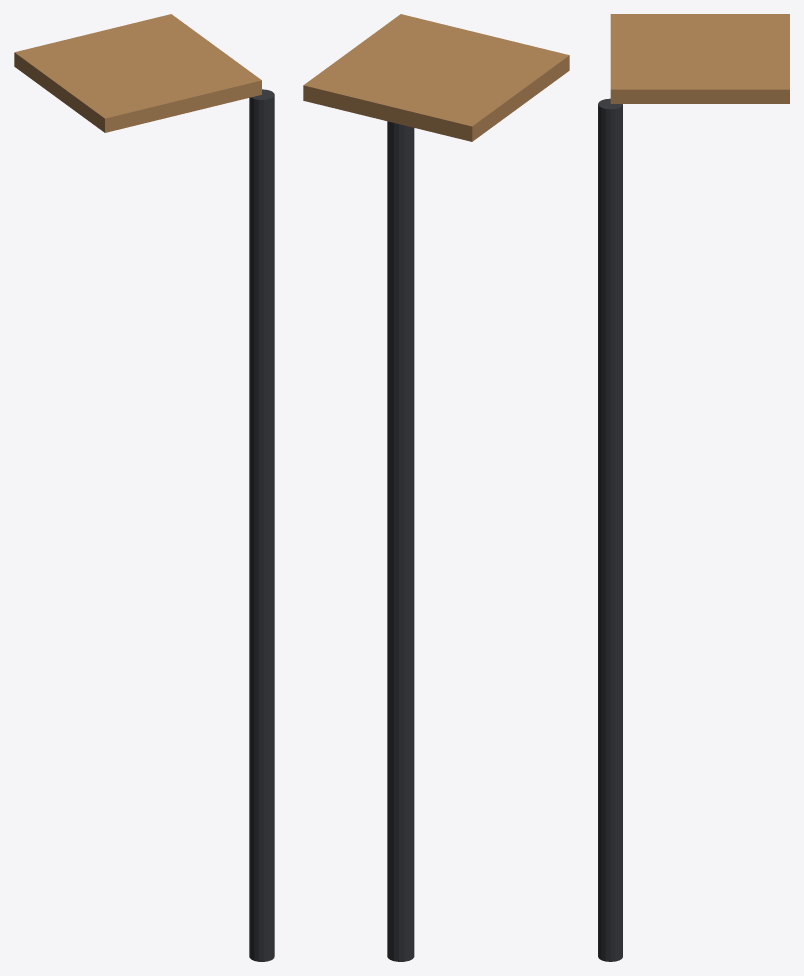
Rendered from patio_umbrella_9ft_base.glb.
3 renders of one model, left to right at view 1: azimuth 30°, elevation 25°; view 2: azimuth 150°, elevation 25°; view 3: azimuth 270°, elevation 25°, orthographic. The views are drawn at different scales.
Bounding box in the file's own units: 0.4892 × 2.44 × 0.4892.
